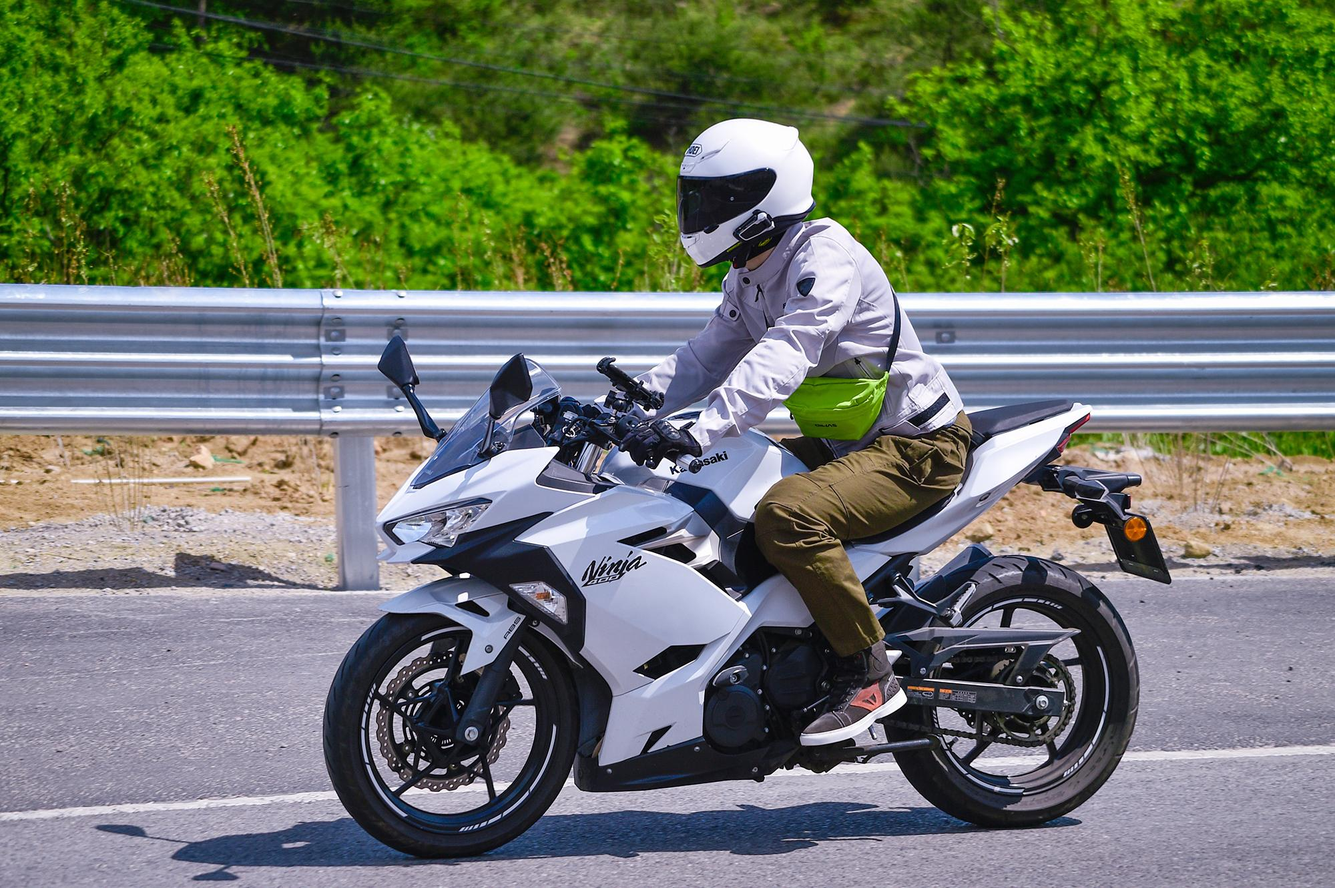helmet: (675, 116, 818, 270)
